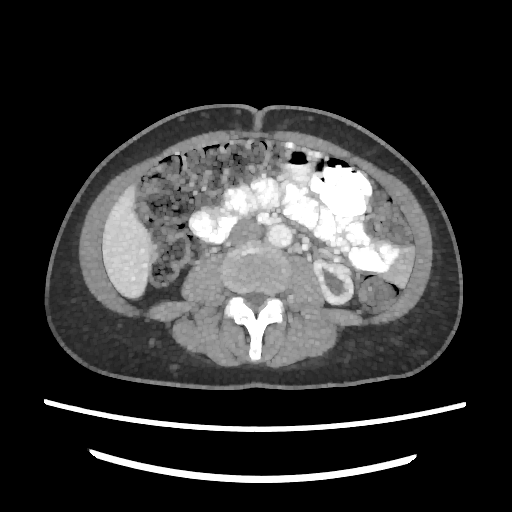Lesion: (319, 266, 347, 301)
